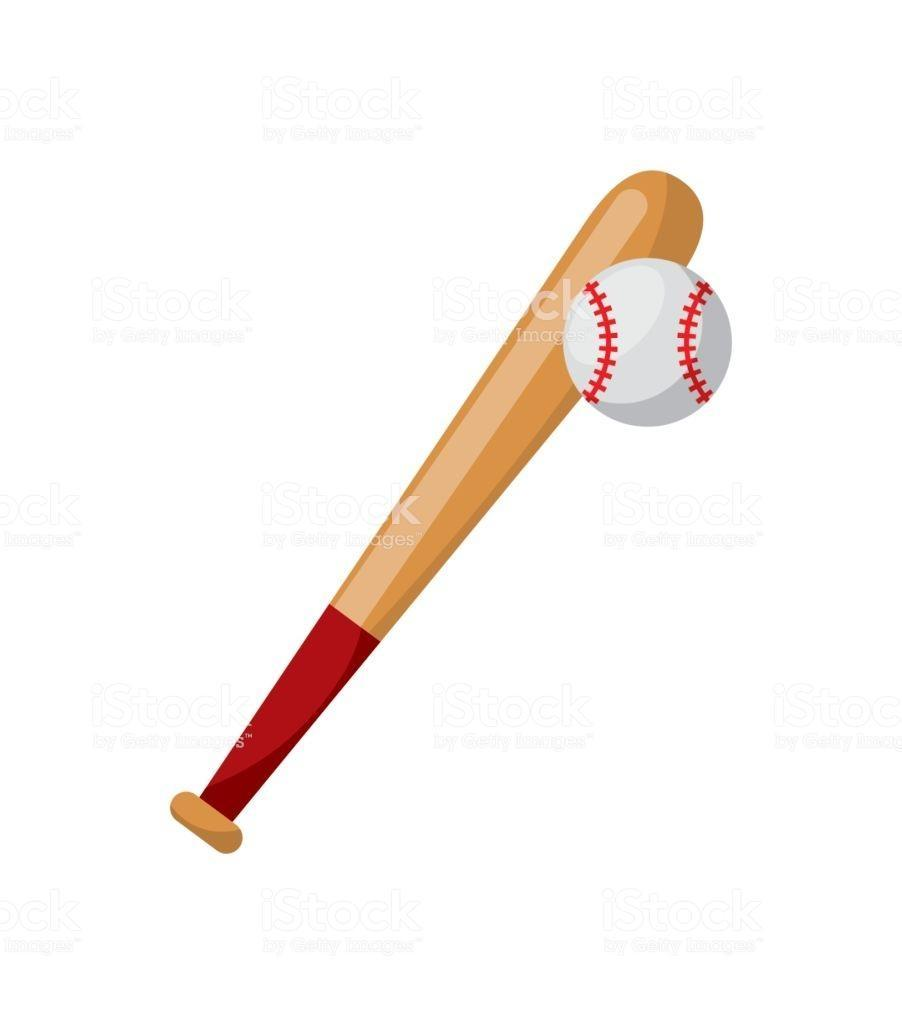Baseball-Bat: (107, 262, 566, 912)
